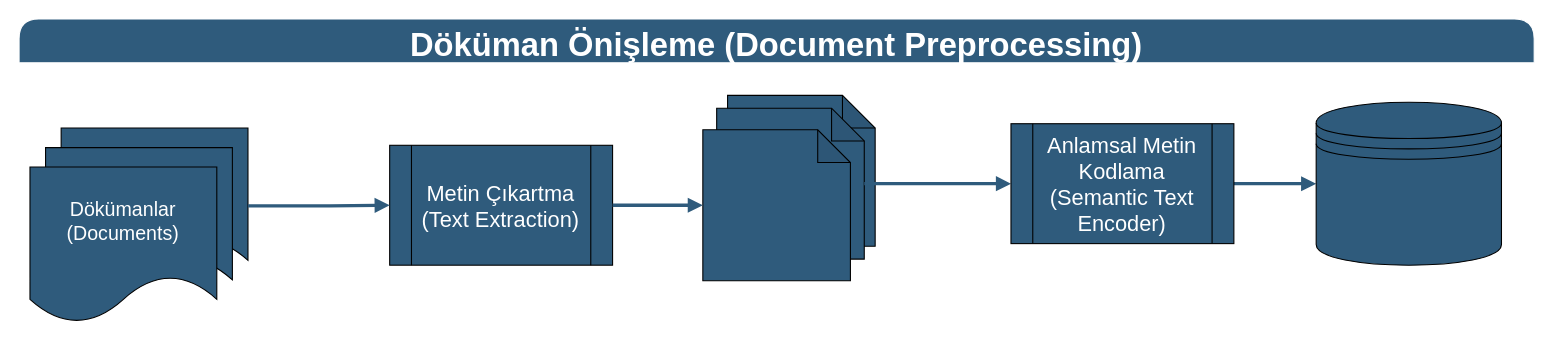
This 1553x354 diagram has some shape labels left out. The centre of each missing label's shape, as x and y in pixels:
"Metin Parçaları (Text Chunks)" belongs at [776,205].
"Vektör Veritabanı (Vector DB)" belongs at [1408,183].
